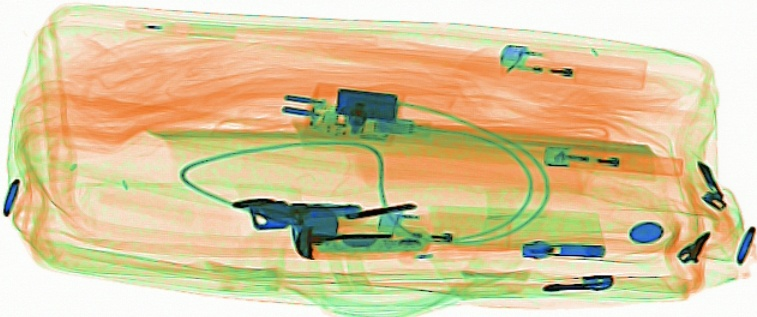lighter: (496, 41, 649, 89), (541, 139, 683, 180)
